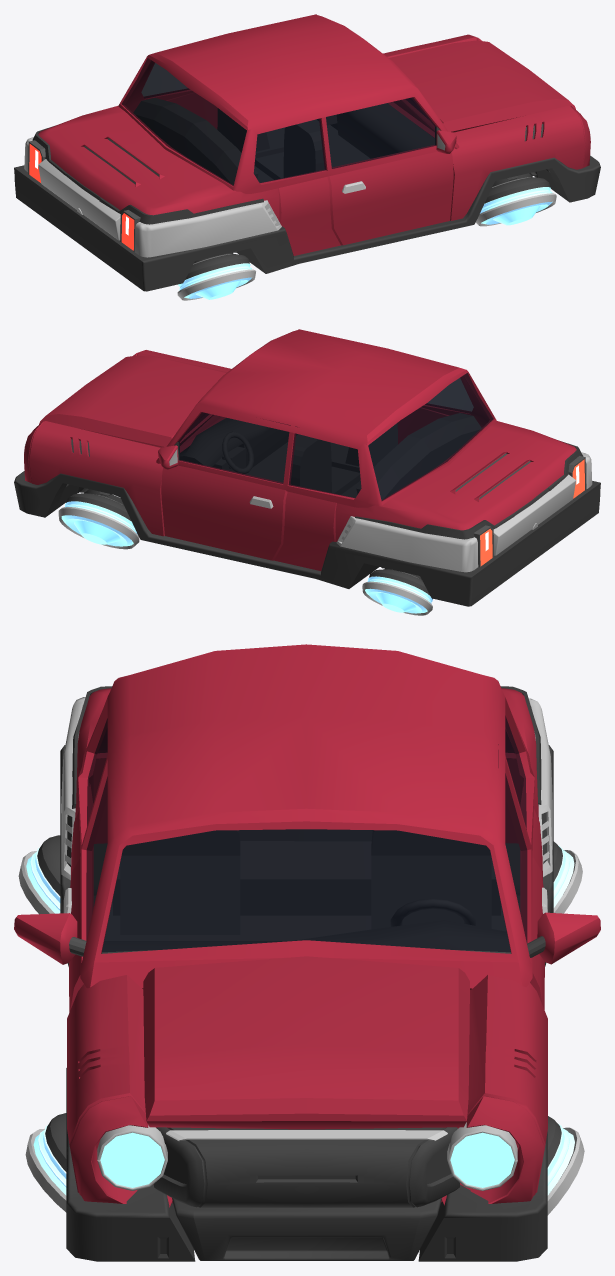
File: car_2_detailed.glb
The picture shows the model from 3 angles, top to bottom: view 1: azimuth 30°, elevation 25°; view 2: azimuth 150°, elevation 25°; view 3: azimuth 270°, elevation 25°; orthographic projection. The views are drawn at different scales.
Visible parts, largest first — view 1: Cube, Cube.006, Cube.010, Plane, Cube.001, Cylinder, QBlock.005, QBlock.011, Cube.009, Cylinder.004, Cylinder.006, Cube.007 (+8 smaller); view 2: Cube, Cube.006, Cube.010, Plane, Cube.001, Cylinder.001, QBlock.004, QBlock.011, Cylinder.012, Cube.009, Cylinder.011, Cube.007 (+9 smaller); view 3: Cube.006, Cube.001, Cube.010, QBlock, Plane, Cylinder.001, Cylinder, Plane.001, QBlock.009, QBlock.010, QBlock.008, Cube (+18 smaller).
Boxes of the visible parts, bbox=[...] form: Cube: bbox=[38, 92, 453, 255]; Cube.006: bbox=[118, 14, 459, 193]; Cube.010: bbox=[122, 58, 436, 185]; Plane: bbox=[14, 155, 600, 291]; Cube.001: bbox=[389, 40, 575, 132]; Cylinder: bbox=[450, 105, 590, 220]; QBlock.005: bbox=[135, 200, 281, 257]; QBlock.011: bbox=[133, 98, 258, 184]; Cube.009: bbox=[331, 103, 434, 158]; Cylinder.004: bbox=[475, 172, 556, 226]; Cylinder.006: bbox=[177, 251, 255, 300]; Cube.007: bbox=[38, 159, 120, 240]; Cube: bbox=[161, 407, 576, 570]; Cube.006: bbox=[156, 329, 496, 507]; Cube.010: bbox=[178, 373, 493, 500]; Plane: bbox=[14, 471, 600, 606]; Cube.001: bbox=[39, 355, 225, 447]; Cylinder.001: bbox=[24, 421, 164, 536]; QBlock.004: bbox=[336, 516, 478, 572]; QBlock.011: bbox=[356, 413, 481, 499]; Cylinder.012: bbox=[58, 488, 139, 549]; Cube.009: bbox=[180, 418, 297, 466]; Cylinder.011: bbox=[362, 567, 432, 615]; Cube.007: bbox=[493, 474, 575, 555]; Cube.006: bbox=[78, 644, 534, 989]; Cube.001: bbox=[143, 956, 469, 1129]; Cube.010: bbox=[86, 716, 527, 952]; QBlock: bbox=[153, 1127, 459, 1207]; Plane: bbox=[60, 745, 553, 1261]; Cylinder.001: bbox=[441, 975, 547, 1205]; Cylinder: bbox=[67, 975, 172, 1207]; Plane.001: bbox=[172, 1198, 441, 1260]; QBlock.009: bbox=[113, 830, 245, 940]; QBlock.010: bbox=[113, 841, 500, 915]; QBlock.008: bbox=[365, 830, 496, 929]; Cube: bbox=[69, 688, 544, 1012].
Bounding box in the file's own units: 348 × 134 × 199.
